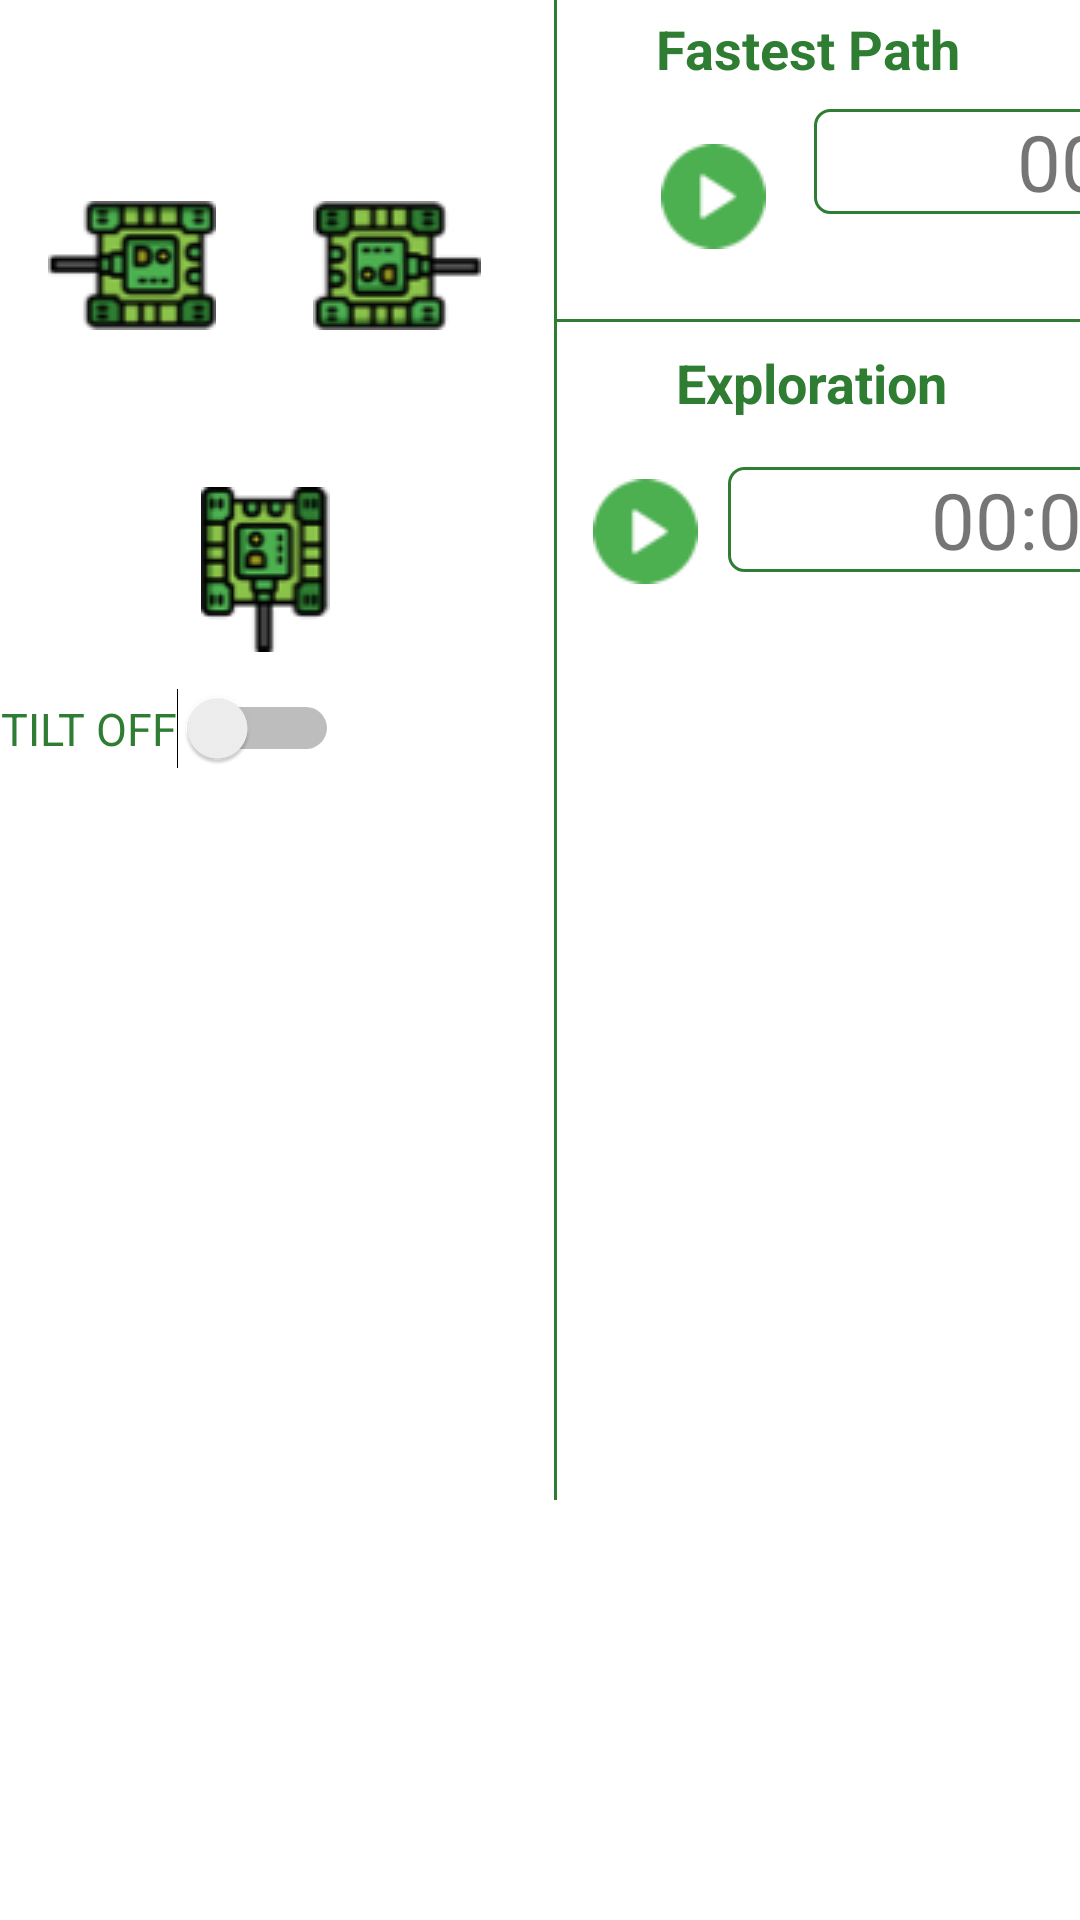

Icons on this 1080px x 1920px Android screen, each with the point to tap as (x=x, y=y):
tankdown: (x=265, y=569)
tankleft: (x=132, y=265)
tankright: (x=397, y=265)
